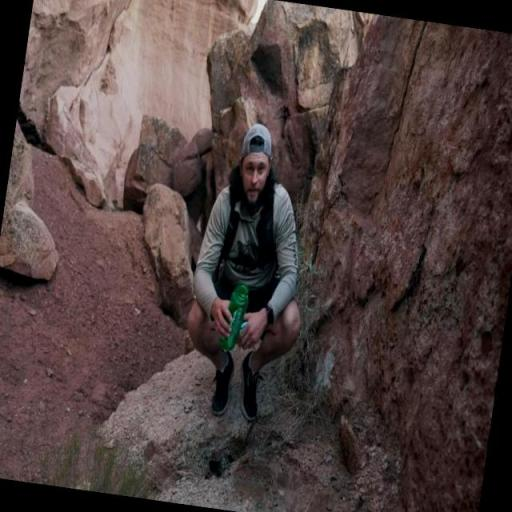bottle: (218, 282, 252, 353)
